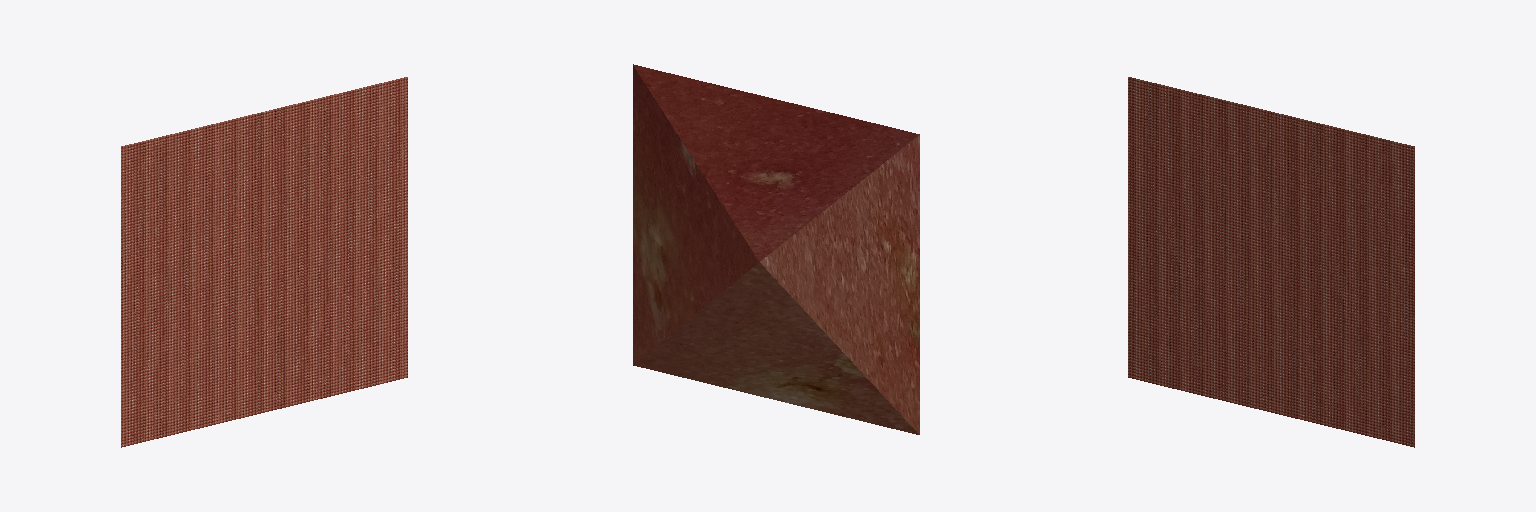
The picture shows the model from 3 angles: view 1: azimuth 30°, elevation 25°; view 2: azimuth 150°, elevation 25°; view 3: azimuth 330°, elevation 25°; orthographic projection.
Visible parts, largest first — view 1: Ground.003.001, Ground.001.003, Ground.004.003, Ground.002.004, Ground.003.003, Ground.003.004, Ground.002.001, Ground.001.002, Ground.002.002, Ground.002.003, Ground.003.002, Ground.004.002 (+4 smaller); view 2: Bottom.004, Bottom.003, Bottom.001, Bottom.002; view 3: Ground.002.001, Ground.001.002, Ground.003.004, Ground.001.001, Ground.001.003, Ground.004.002, Ground.003.001, Ground.004.001, Ground.001.004, Ground.002.004, Ground.004.003, Ground.004.004 (+4 smaller).
Boxes of the visible parts, x1=… form: Ground.003.001: x1=264, y1=320, x2=335, y2=412; Ground.001.003: x1=192, y1=262, x2=263, y2=354; Ground.004.003: x1=192, y1=187, x2=263, y2=279; Ground.002.004: x1=264, y1=94, x2=335, y2=186; Ground.003.003: x1=336, y1=302, x2=407, y2=394; Ground.003.004: x1=264, y1=245, x2=335, y2=336; Ground.002.001: x1=264, y1=170, x2=335, y2=261; Ground.001.002: x1=192, y1=338, x2=263, y2=429; Ground.002.002: x1=336, y1=77, x2=407, y2=168; Ground.002.003: x1=336, y1=152, x2=407, y2=244; Ground.003.002: x1=336, y1=227, x2=407, y2=319; Ground.004.002: x1=192, y1=112, x2=263, y2=203; Bottom.004: x1=760, y1=135, x2=919, y2=434; Bottom.003: x1=633, y1=64, x2=919, y2=261; Bottom.001: x1=633, y1=262, x2=918, y2=434; Bottom.002: x1=633, y1=66, x2=758, y2=364; Ground.002.001: x1=1272, y1=187, x2=1343, y2=279; Ground.001.002: x1=1200, y1=320, x2=1271, y2=412; Ground.003.004: x1=1272, y1=262, x2=1343, y2=354; Ground.001.001: x1=1128, y1=302, x2=1199, y2=394; Ground.001.003: x1=1200, y1=245, x2=1271, y2=336; Ground.004.002: x1=1200, y1=94, x2=1271, y2=186; Ground.003.001: x1=1272, y1=338, x2=1343, y2=429; Ground.004.001: x1=1128, y1=152, x2=1199, y2=244; Ground.001.004: x1=1128, y1=227, x2=1199, y2=319; Ground.002.004: x1=1272, y1=112, x2=1343, y2=203; Ground.004.003: x1=1200, y1=170, x2=1271, y2=261; Ground.004.004: x1=1128, y1=77, x2=1199, y2=168.
Bounding box in the file's own units: 1000 × 1000 × 101.
Materials: 1 (1 with a texture image).